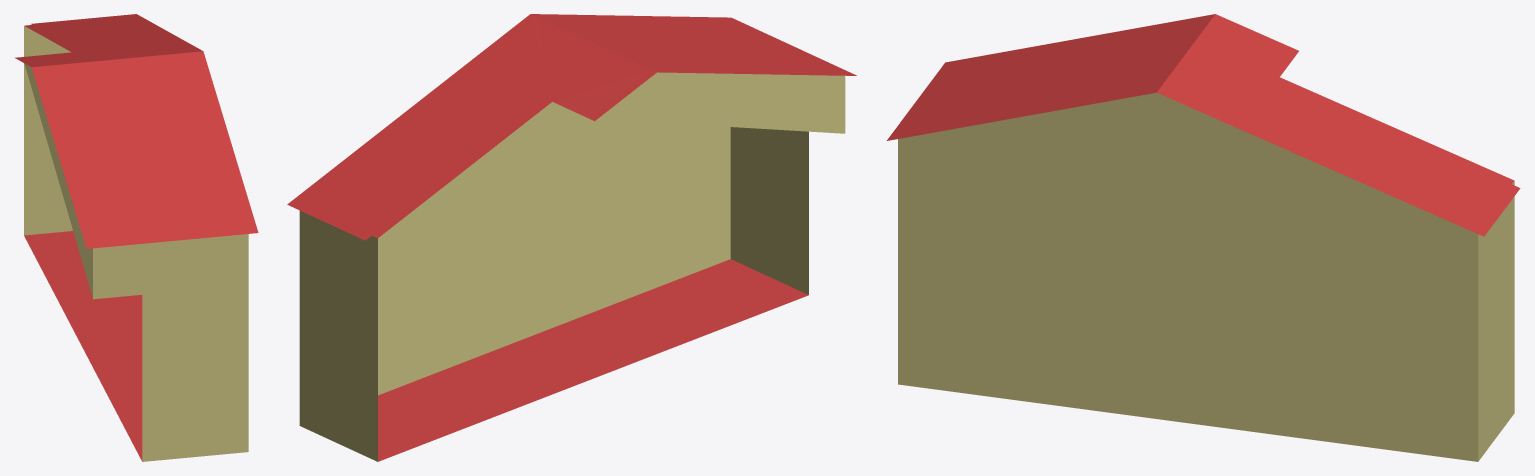
The picture shows the model from 3 angles, left to right: view 1: azimuth 30°, elevation 25°; view 2: azimuth 150°, elevation 25°; view 3: azimuth 270°, elevation 25°; orthographic projection. The views are drawn at different scales.
Bounding box in the file's own units: 10.16 × 17.18 × 9.88.
